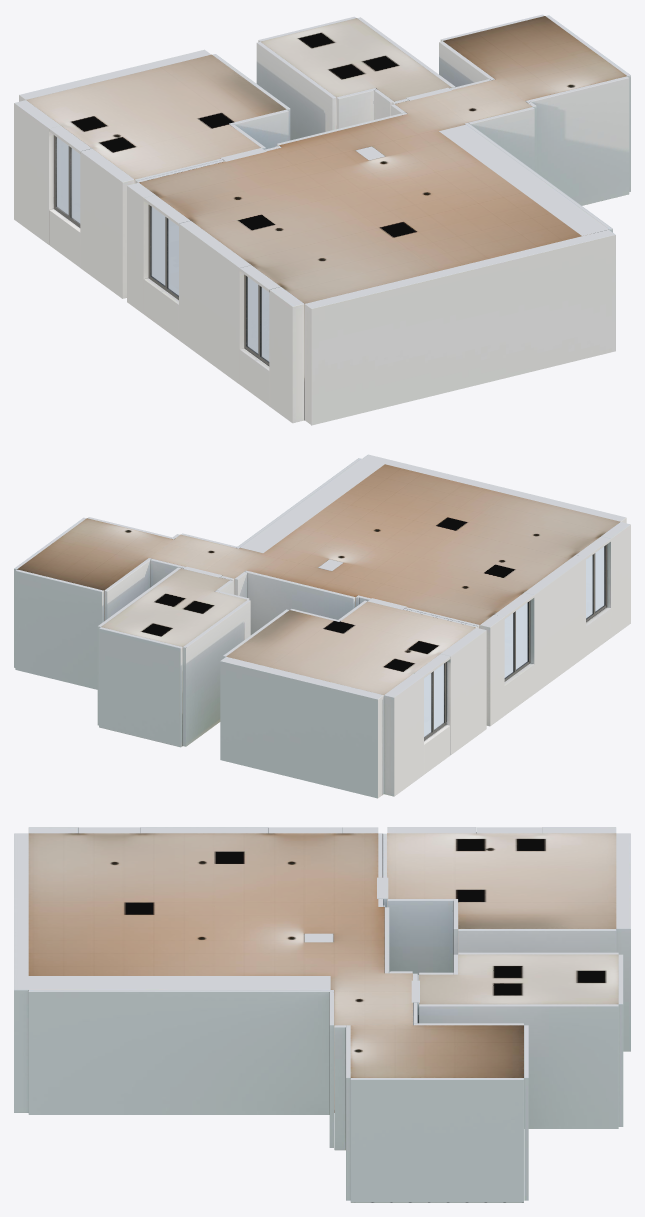
The model's file is flat_table2.glb.
3 renders of one model, top to bottom at view 1: azimuth 30°, elevation 25°; view 2: azimuth 150°, elevation 25°; view 3: azimuth 270°, elevation 25°, orthographic. The views are drawn at different scales.
Visible parts, largest first — view 1: zapec_telo_0, zapec_stropy_3, zapec_zdi_1, sklo_okno_67, sklo_okno_111, sklo_okno_74; view 2: zapec_telo_0, zapec_stropy_3, zapec_zdi_1, sklo_okno_67, sklo_okno_111, sklo_okno_74; view 3: zapec_telo_0, zapec_stropy_3, zapec_zdi_1.
Part boxes in pixels (box(x1,y1,x2,y2)): zapec_telo_0: box(14, 14, 630, 425); zapec_stropy_3: box(26, 16, 626, 303); zapec_zdi_1: box(34, 41, 608, 420); sklo_okno_67: box(151, 207, 178, 295); sklo_okno_111: box(57, 137, 80, 223); sklo_okno_74: box(247, 277, 269, 361); zapec_telo_0: box(14, 454, 630, 798); zapec_stropy_3: box(17, 464, 620, 694); zapec_zdi_1: box(17, 458, 606, 745); sklo_okno_67: box(504, 603, 527, 677); sklo_okno_111: box(424, 664, 443, 736); sklo_okno_74: box(586, 546, 604, 618); zapec_telo_0: box(14, 827, 630, 1202); zapec_stropy_3: box(28, 833, 618, 1077); zapec_zdi_1: box(28, 832, 476, 1112).
Bounding box in the file's own units: 11.92 × 2.71 × 12.3.
10 materials, 8 textured.
